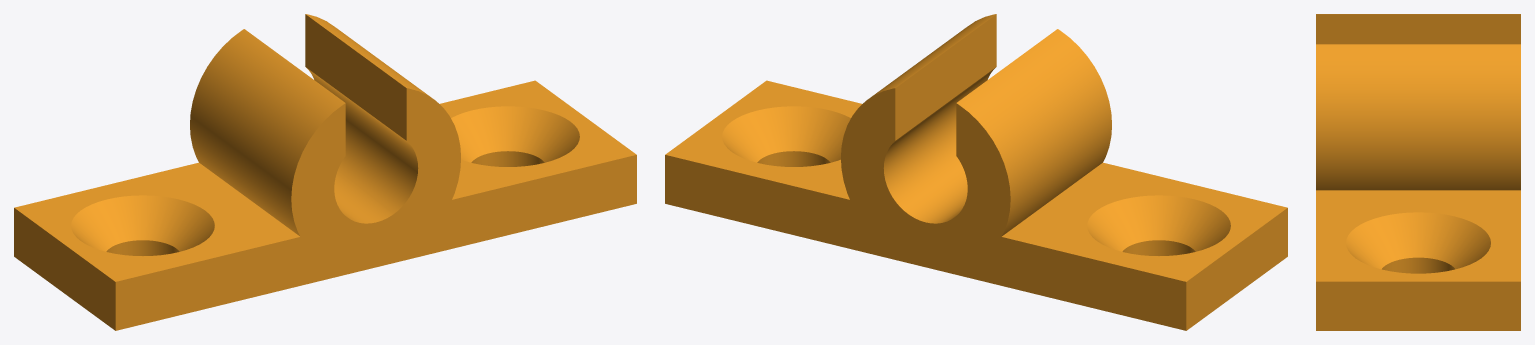
The model's file is clip_cable_4mm.fbx.
3 views of the same model, side by side, from view 1: azimuth 30°, elevation 25°; view 2: azimuth 150°, elevation 25°; view 3: azimuth 270°, elevation 25° (orthographic).
Parts seen in each view (by area): view 1: clip_cable_4mm; view 2: clip_cable_4mm; view 3: clip_cable_4mm.
Boxes of the visible parts, x1,y1,x2,y2 form: clip_cable_4mm: (14,14,636,330); clip_cable_4mm: (665,14,1287,330); clip_cable_4mm: (1316,14,1520,330).
Bounding box in the file's own units: 0.0267 × 0.0084 × 0.009.
